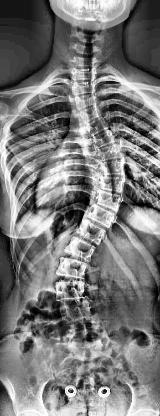Vertebrae: (58, 300, 96, 324), (75, 219, 107, 247), (64, 235, 96, 263), (55, 256, 87, 282), (86, 204, 118, 228), (54, 280, 88, 302), (96, 171, 128, 193), (83, 116, 111, 138), (96, 188, 124, 210), (75, 104, 101, 126), (70, 92, 98, 110), (90, 131, 118, 149), (95, 144, 123, 162), (98, 160, 126, 178), (68, 79, 98, 95), (68, 68, 100, 82)
